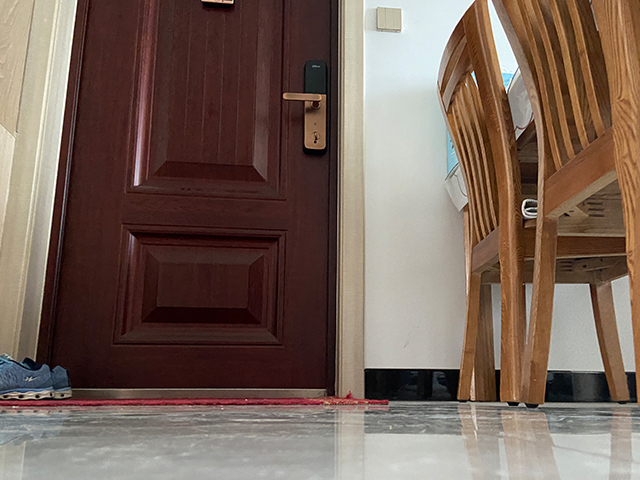carpet: (1, 396, 391, 406)
stool: (435, 1, 629, 407), (493, 1, 640, 408)
